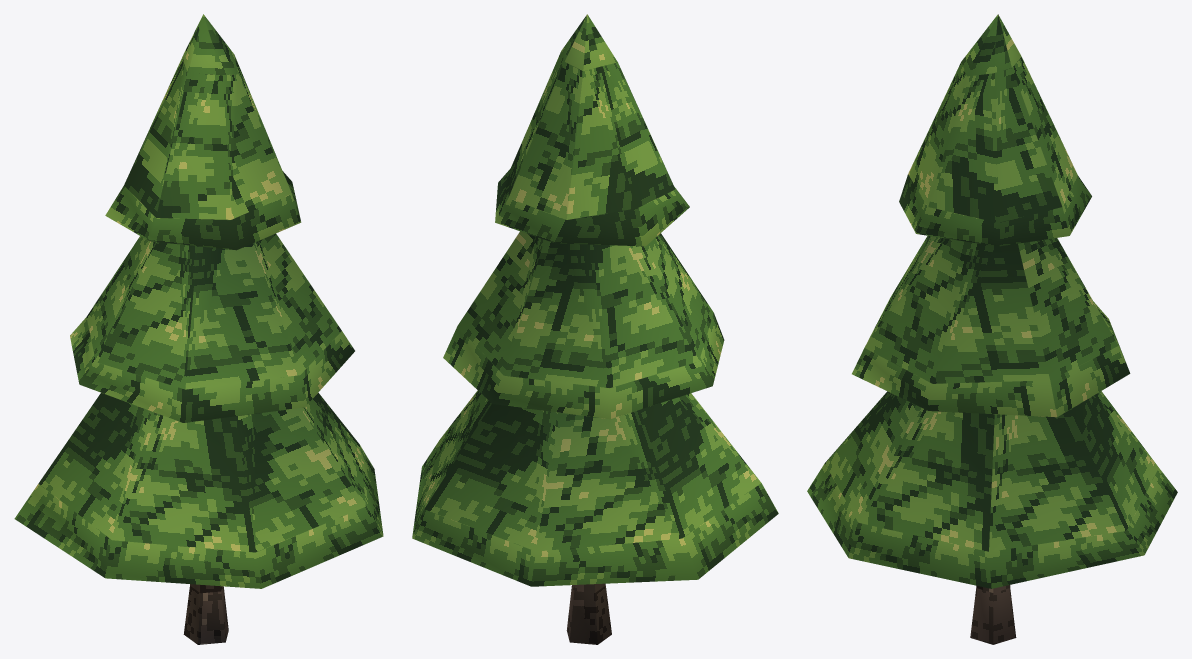
The model's file is mnat.pine__short.glb.
The picture shows the model from 3 angles, left to right: view 1: azimuth 30°, elevation 25°; view 2: azimuth 150°, elevation 25°; view 3: azimuth 270°, elevation 25°; orthographic projection.
Parts seen in each view (by area): view 1: kit_tiers, kit_trunk; view 2: kit_tiers, kit_trunk; view 3: kit_tiers, kit_trunk.
Boxes of the visible parts, x1,y1,x2,y2 form: kit_tiers: (14,14,383,588); kit_trunk: (183,584,228,644); kit_tiers: (412,14,778,586); kit_trunk: (566,583,611,644); kit_tiers: (807,14,1177,588); kit_trunk: (970,585,1016,644).
Size of the model in its own units: 2.7 by 5.04 by 2.73.
Materials: 2 (2 with a texture image).
